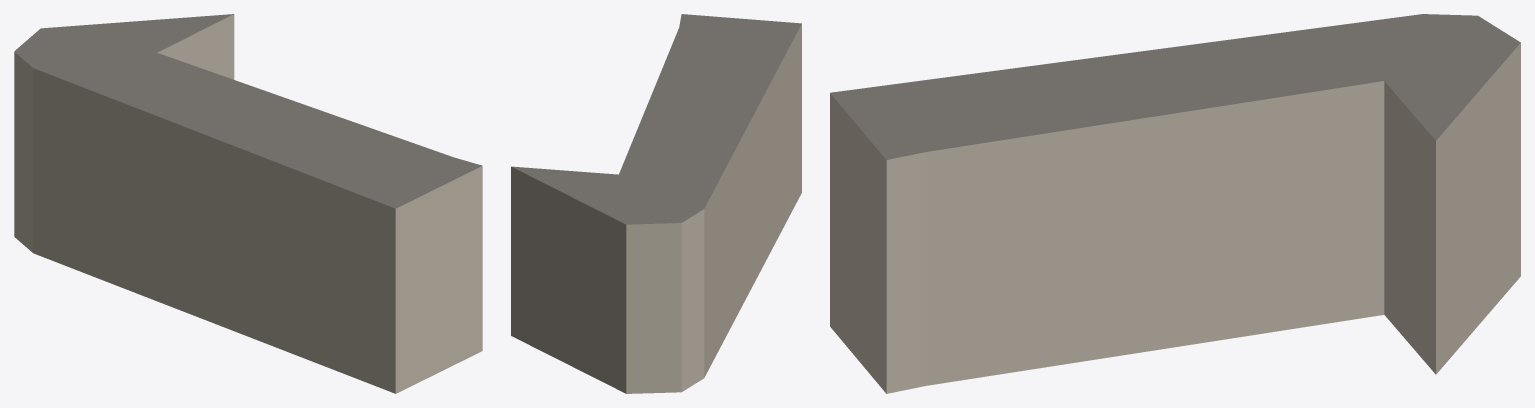
The picture shows the model from 3 angles, left to right: view 1: azimuth 30°, elevation 25°; view 2: azimuth 150°, elevation 25°; view 3: azimuth 270°, elevation 25°; orthographic projection. The views are drawn at different scales.
Visible parts, largest first — view 1: HP-w378107251; view 2: HP-w378107251; view 3: HP-w378107251.
Part boxes in pixels (x1=…): HP-w378107251: x1=14, y1=14, x2=482, y2=393; HP-w378107251: x1=511, y1=14, x2=801, y2=393; HP-w378107251: x1=830, y1=14, x2=1520, y2=393.
Size of the model in its own units: 24.12 by 18 by 48.19.
